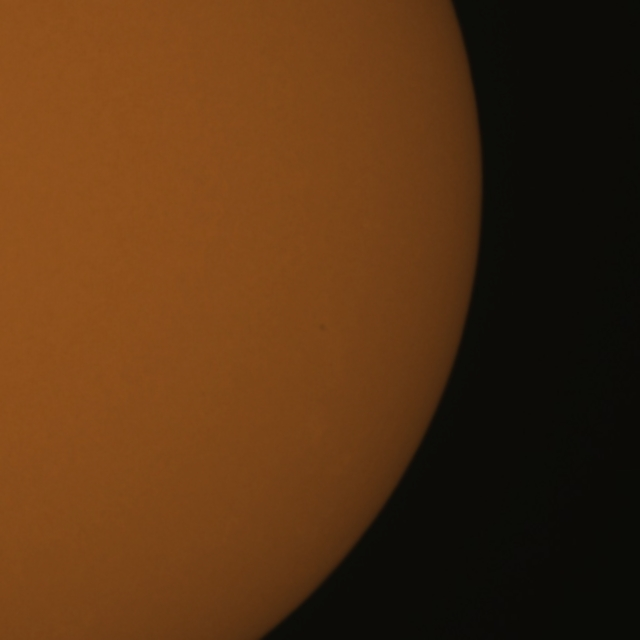sunspot: (316, 321, 329, 335)
